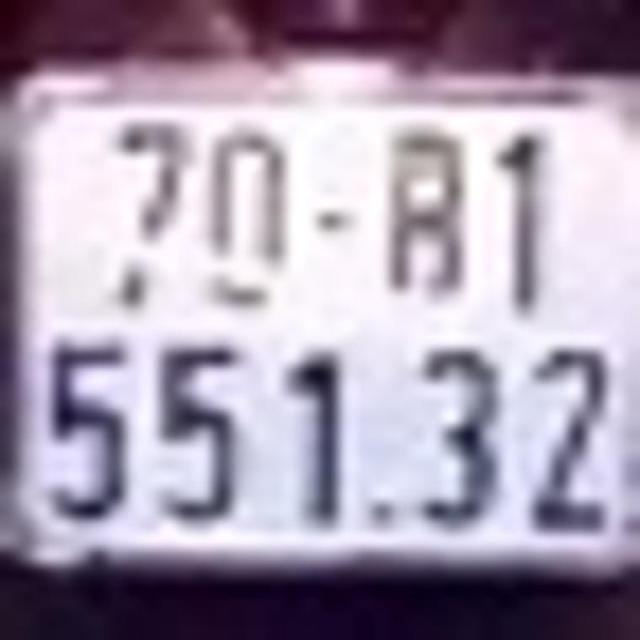0: (204, 121, 292, 310)
1: (282, 339, 348, 528), (488, 121, 549, 316)
2: (526, 335, 615, 536)
3: (413, 335, 502, 531)
5: (155, 338, 244, 526), (46, 335, 132, 523)
7: (106, 115, 192, 312)
B: (384, 122, 472, 304)
